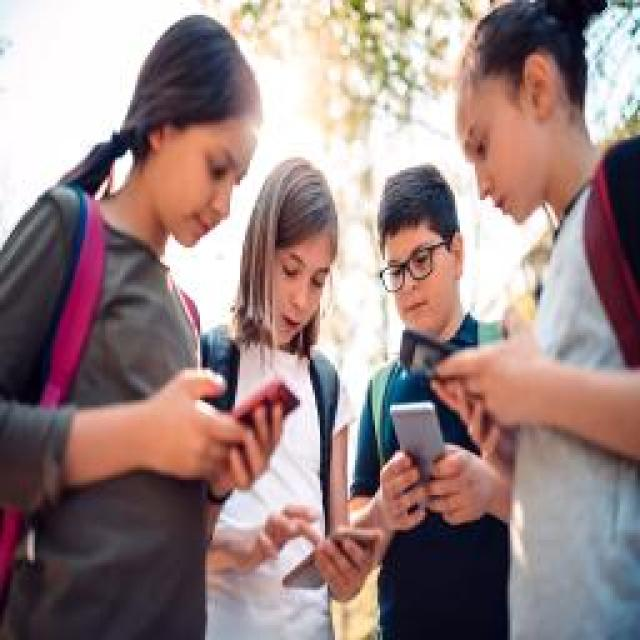phone: (0, 12, 298, 518), (397, 0, 640, 470), (202, 158, 378, 608), (353, 162, 535, 578)
